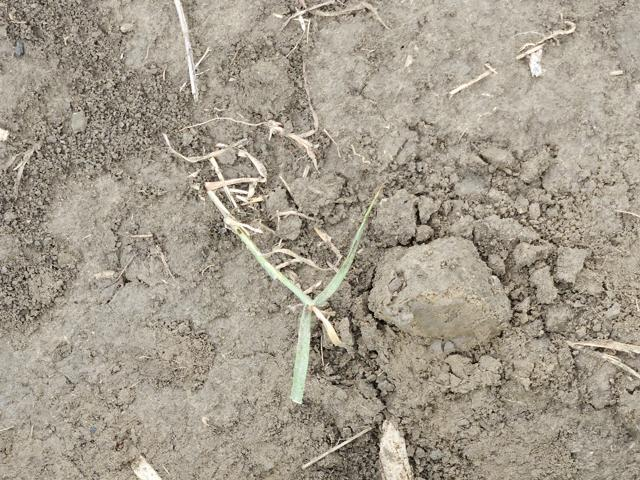bad weed: (188, 180, 403, 397)
